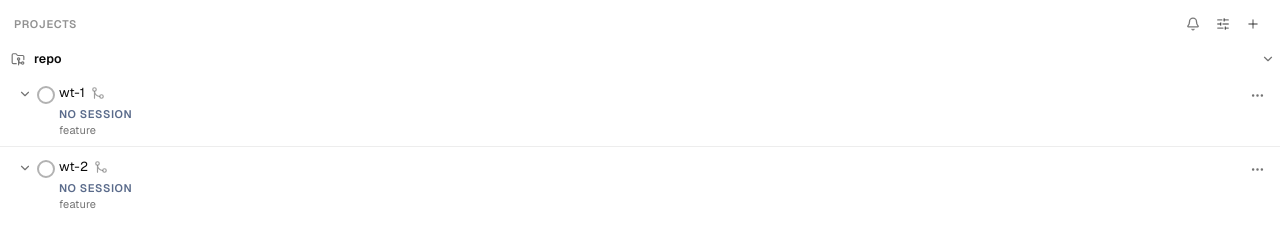
Test case: collapsible project sections › header click folds the cards and flips aria-expanded
Expected: the text "wt-1" is shown, [59, 83, 85, 103]
Click the button "repo": {"x": 18, "y": 59} [11, 50, 1275, 67]
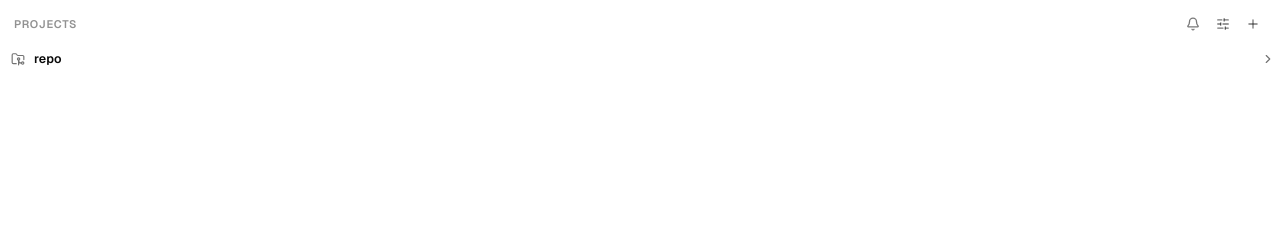
Now the button "repo" is collapsed, box [11, 50, 1275, 67]
Now the button "feature" is gone
